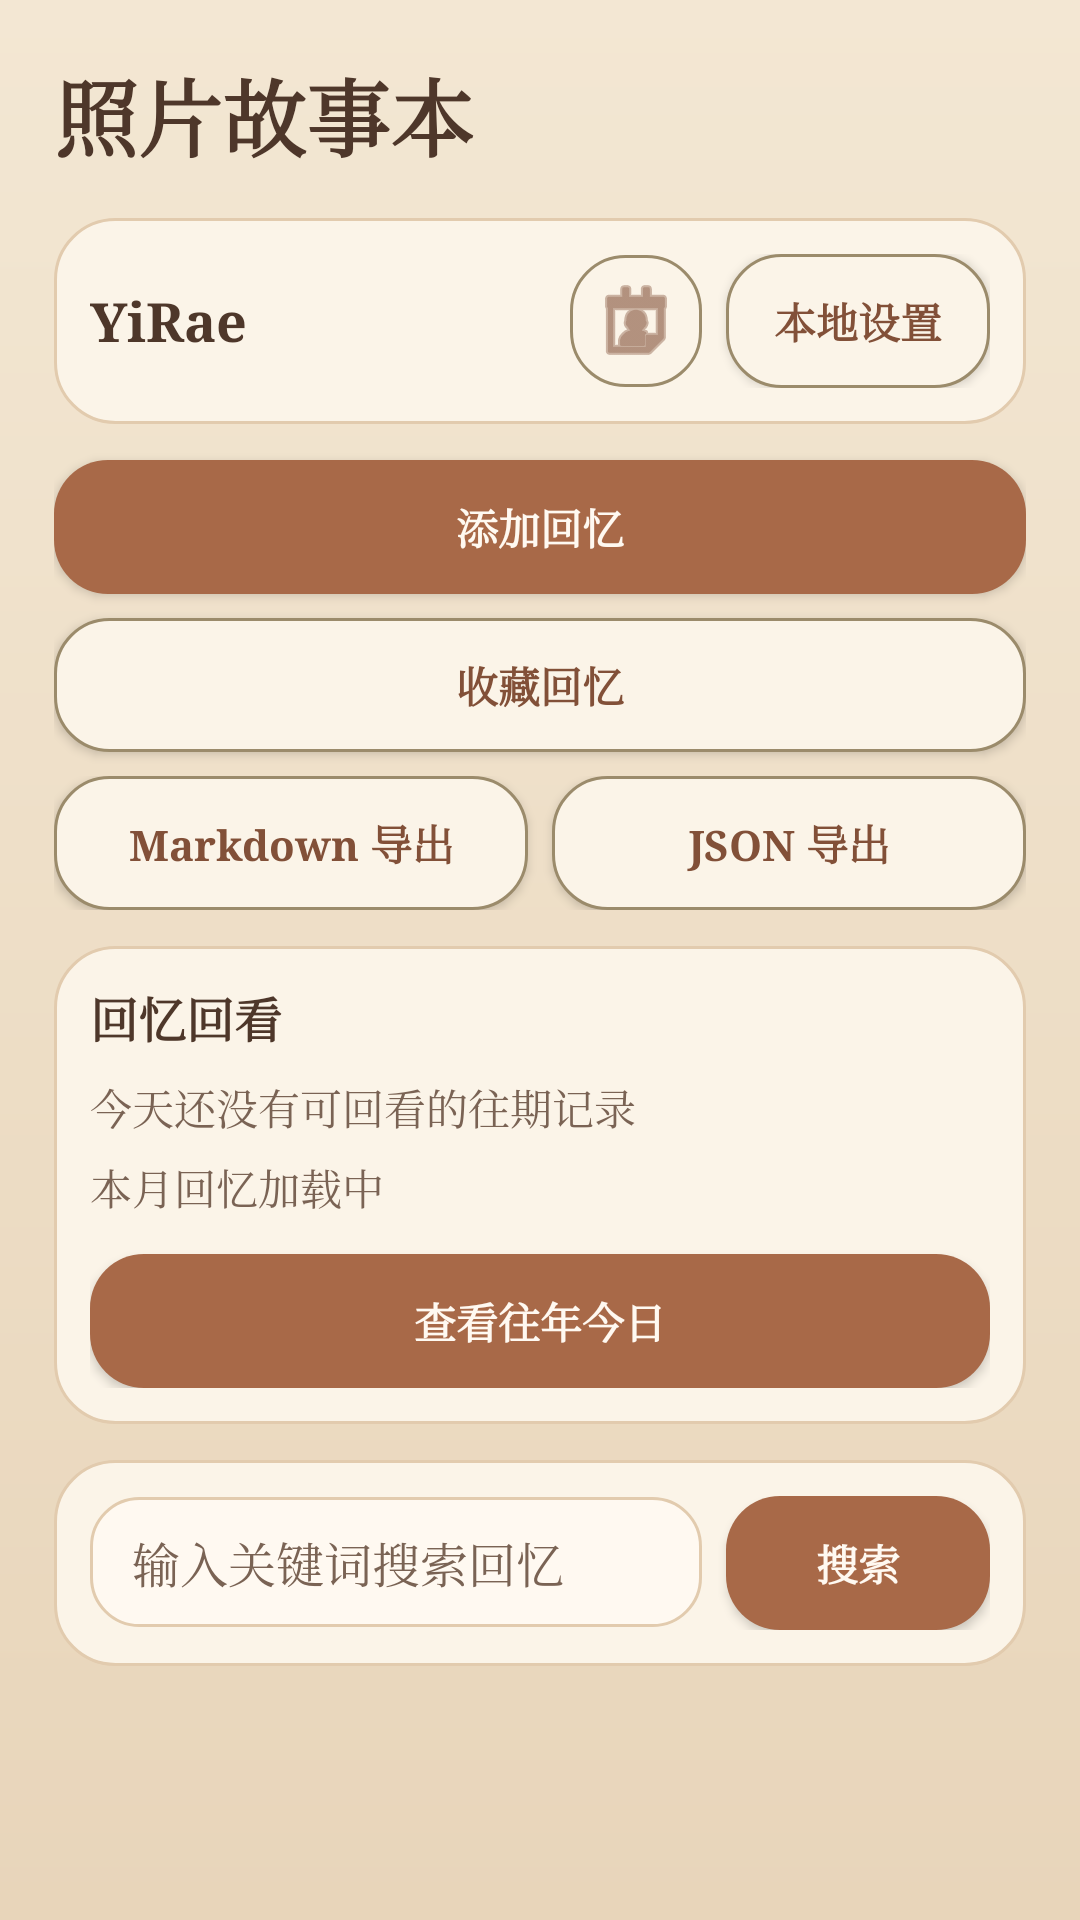

Point at icon controls on the screen. Image size 1080x1920, points as (x=x, y=y).
日历视图: (x=636, y=321)
